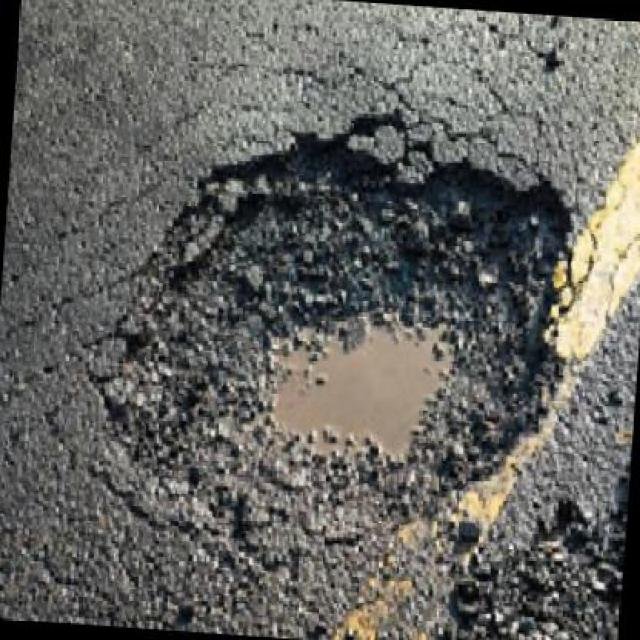pothole: (84, 82, 587, 588)
